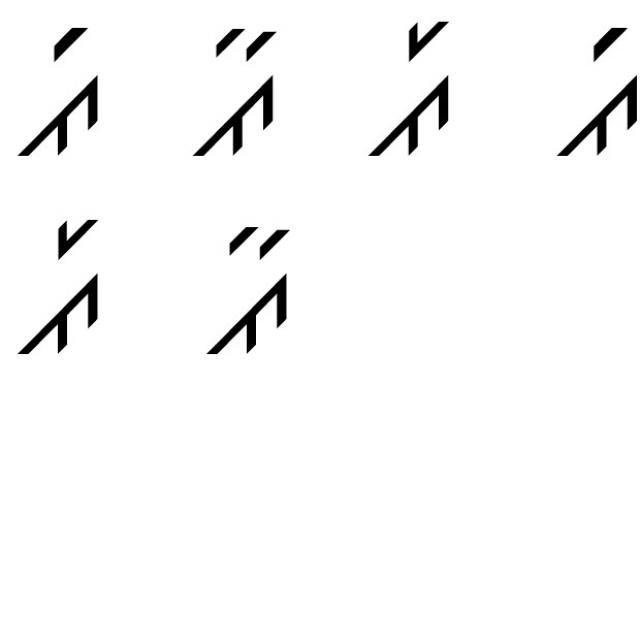kan: (202, 214, 298, 368), (194, 20, 282, 170)
kang: (10, 18, 104, 161), (545, 21, 639, 164)
kar: (10, 210, 104, 368), (364, 18, 460, 164)
